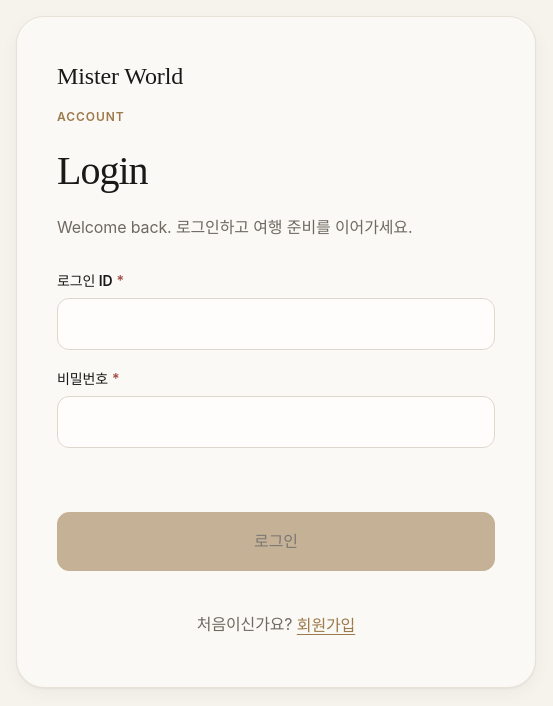
Test case: LoginPage › keeps submit disabled until both required credentials are present
Expected: the heading "Login" is shown, top-left (57, 148), bottom-right (148, 193)
Expected: the button "로그인" is disabled, top-left (57, 512), bottom-right (495, 571)
Type "customer-01" into the field labelled "로그인 ID" at [276, 324], box top-left (57, 298), bottom-right (495, 350)
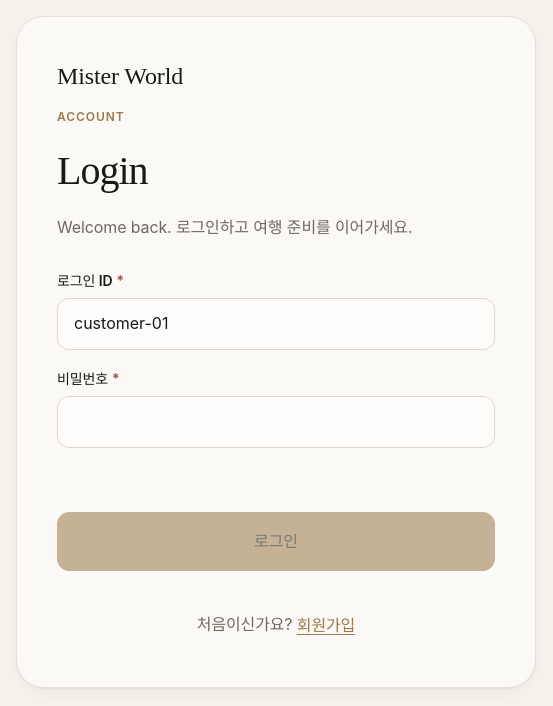
Expected: the button "로그인" is disabled, top-left (57, 512), bottom-right (495, 571)
Type "secret-input" into the password field labelled "비밀번호 *" at [276, 422], box top-left (57, 396), bottom-right (495, 448)
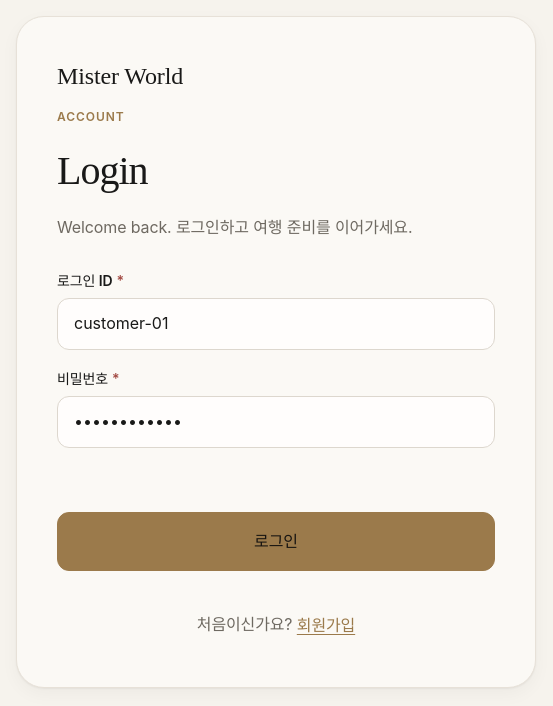
Now the button "로그인" is enabled, box top-left (57, 512), bottom-right (495, 571)
